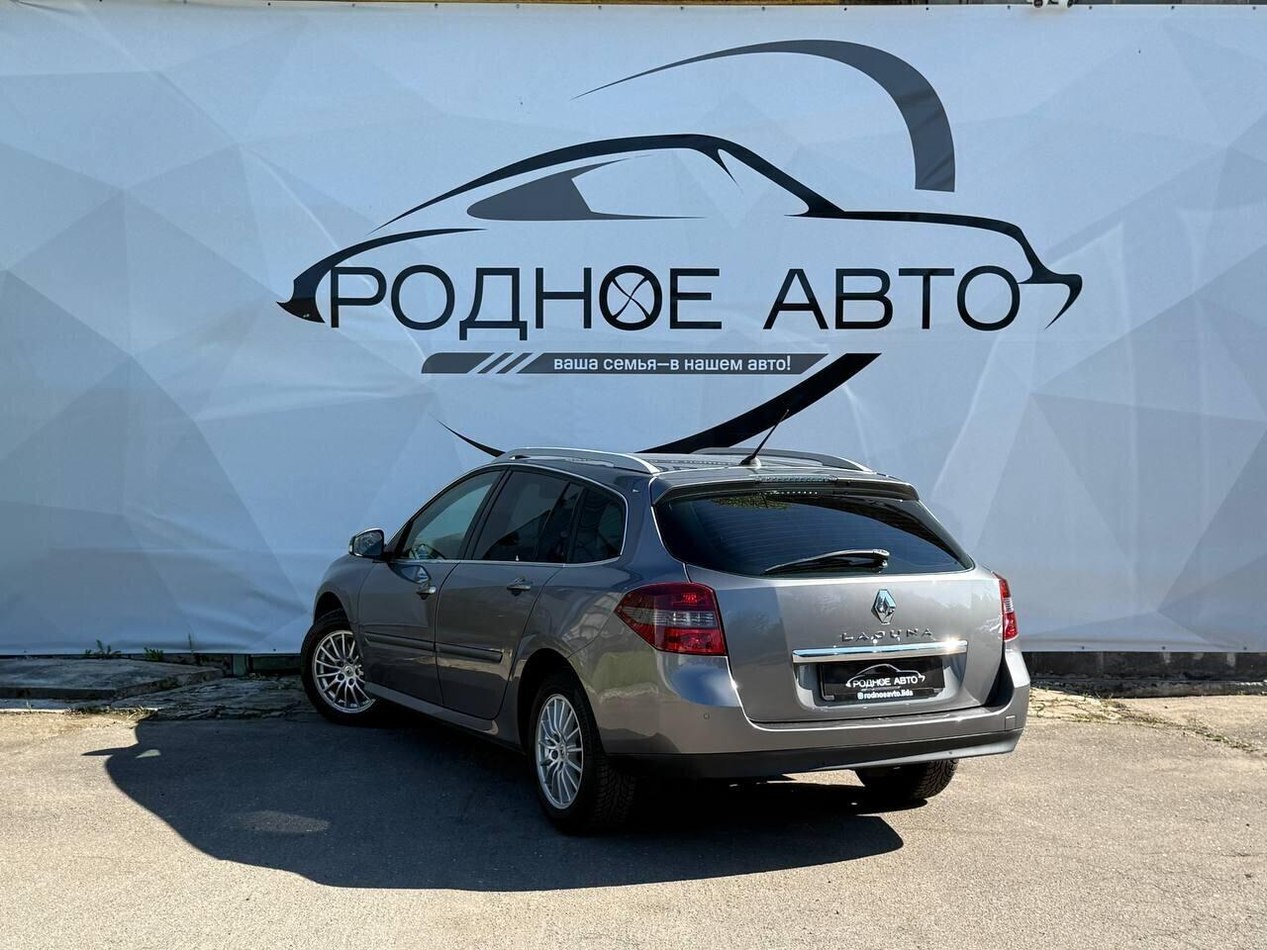Laguna_2010-2015: (302, 444, 1036, 830)
